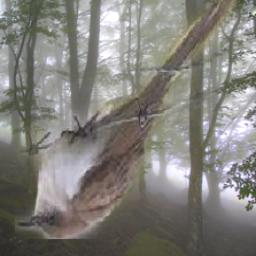Cuckoo: (16, 0, 238, 240)
Swallow: (249, 0, 256, 17)
